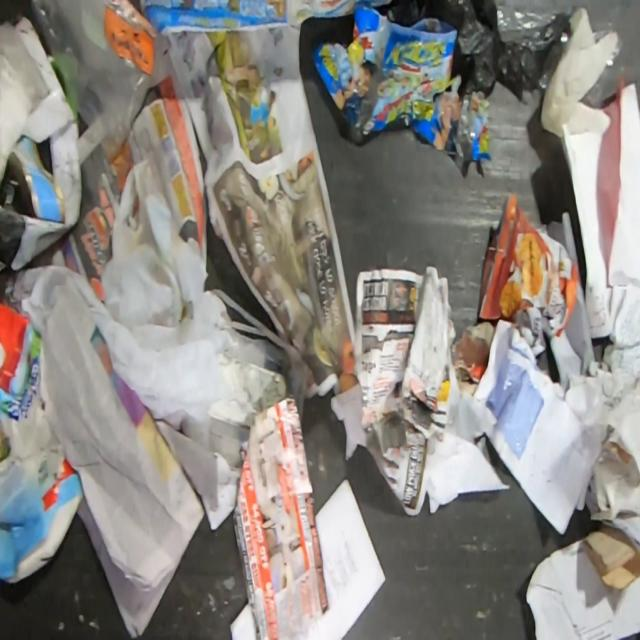cardboard: (525, 525, 640, 640), (0, 119, 82, 273), (0, 300, 44, 424)
soft_plastic: (95, 149, 240, 421), (307, 0, 493, 180), (26, 0, 172, 161), (372, 0, 574, 102), (477, 191, 578, 356), (539, 6, 619, 138)
